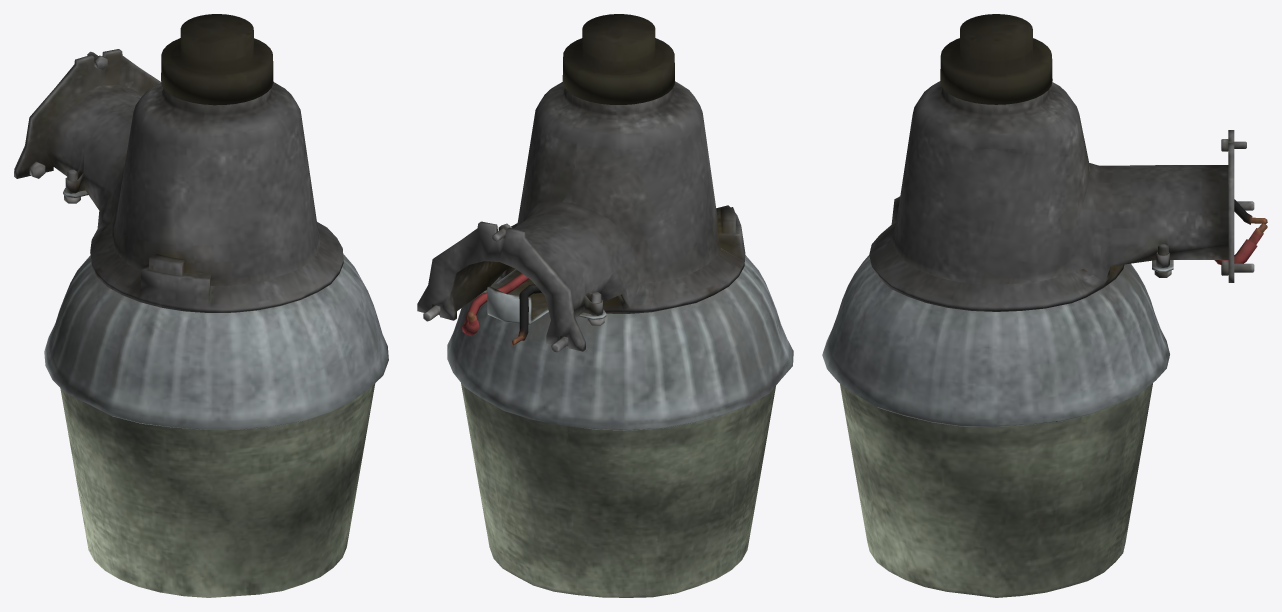
Rendered from security_light.glb.
3 renders of one model, left to right at view 1: azimuth 30°, elevation 25°; view 2: azimuth 150°, elevation 25°; view 3: azimuth 270°, elevation 25°, orthographic.
Visible parts, largest first — view 1: security_light, security_light_glass; view 2: security_light, security_light_glass; view 3: security_light, security_light_glass.
Boxes of the visible parts, box(x1,y1,x2,y2) form: security_light: box(14, 14, 388, 429); security_light_glass: box(60, 383, 375, 597); security_light: box(417, 14, 793, 430); security_light_glass: box(461, 383, 775, 597); security_light: box(822, 14, 1267, 426); security_light_glass: box(840, 383, 1152, 597).
Bounding box in the file's own units: 0.3231 × 0.531 × 0.4172.
3 materials, 3 textured.
